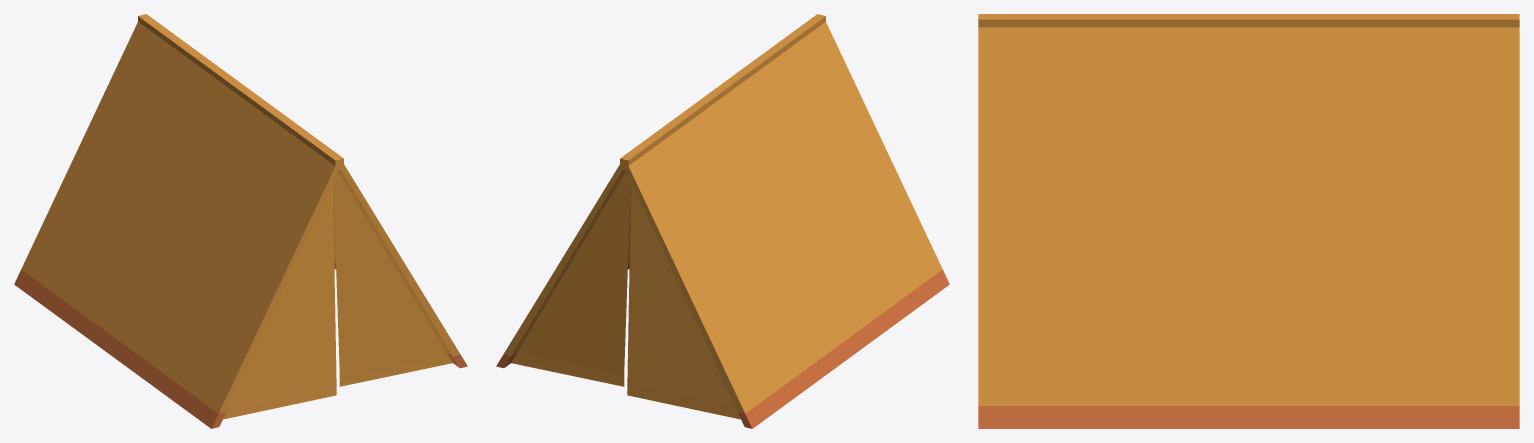
The model's file is CampingTent01.fbx.
3 views of the same model, side by side, from view 1: azimuth 30°, elevation 25°; view 2: azimuth 150°, elevation 25°; view 3: azimuth 270°, elevation 25° (orthographic). The views are drawn at different scales.
Visible parts, largest first — view 1: Camp_Tent1; view 2: Camp_Tent1; view 3: Camp_Tent1.
Boxes of the visible parts, box(x1,y1,x2,y2) form: Camp_Tent1: box(14, 14, 467, 428); Camp_Tent1: box(496, 14, 949, 428); Camp_Tent1: box(978, 14, 1519, 428).
Size of the model in its own units: 59.06 by 78.74 by 52.41.
